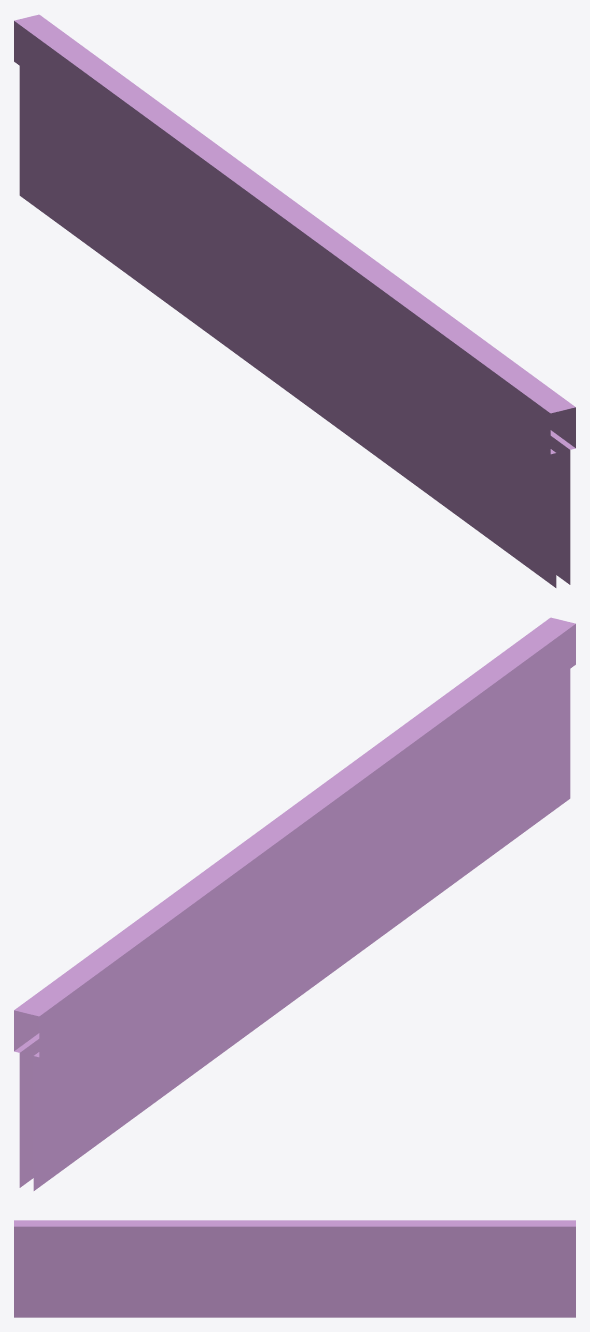
Rendered from Museum_mesa_Fence.fbx.
3 renders of one model, top to bottom at view 1: azimuth 30°, elevation 25°; view 2: azimuth 150°, elevation 25°; view 3: azimuth 270°, elevation 25°, orthographic. The views are drawn at different scales.
Visible parts, largest first — view 1: Archi_Annexes_Etage.002; view 2: Archi_Annexes_Etage.002; view 3: Archi_Annexes_Etage.002.
Boxes of the visible parts, x1=… form: Archi_Annexes_Etage.002: x1=14, y1=14, x2=575, y2=587; Archi_Annexes_Etage.002: x1=14, y1=617, x2=575, y2=1190; Archi_Annexes_Etage.002: x1=14, y1=1220, x2=575, y2=1317.
Size of the model in its own units: 16.12 by 107 by 591.
